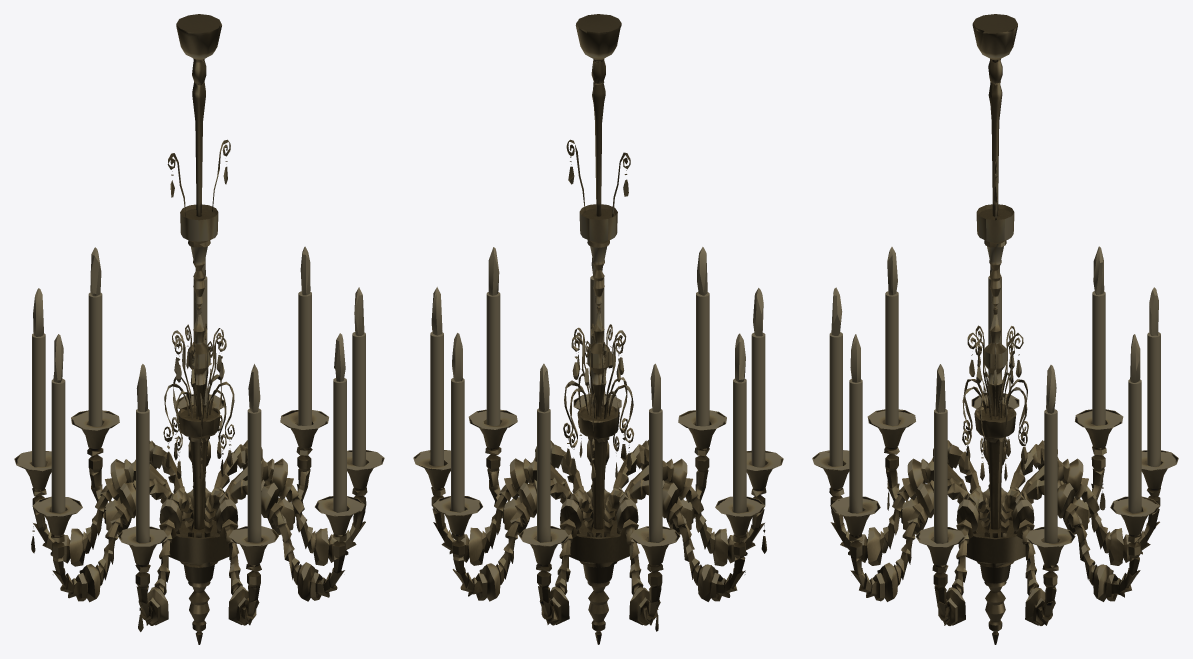
File: Pendant_Lamp_deacb96d-60e0-5749-b2db-c29159fda386.glb
3 views of the same model, side by side, from view 1: azimuth 30°, elevation 25°; view 2: azimuth 150°, elevation 25°; view 3: azimuth 270°, elevation 25° (orthographic).
Parts seen in each view (by area): view 1: raw_model.obj; view 2: raw_model.obj; view 3: raw_model.obj.
Boxes of the visible parts, x1,y1,x2,y2 form: raw_model.obj: (14, 14, 384, 644); raw_model.obj: (413, 14, 783, 644); raw_model.obj: (812, 14, 1178, 644).
Bounding box in the file's own units: 0.5993 × 1.12 × 0.5993.
Materials: 1 (1 with a texture image).
